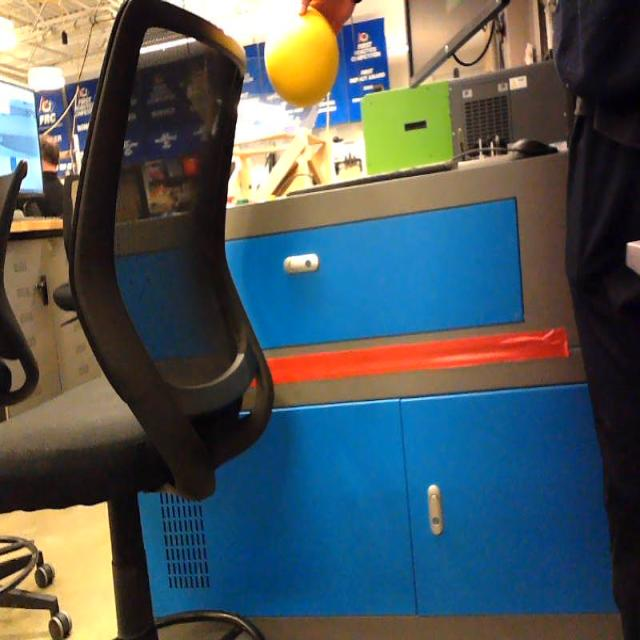Fuel: (264, 5, 340, 107)
